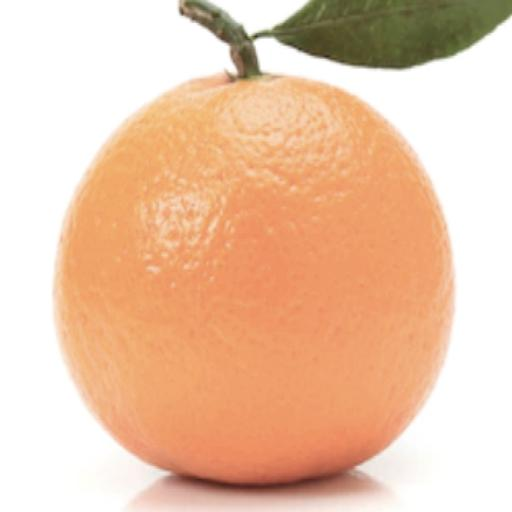orange: (55, 75, 453, 484)
